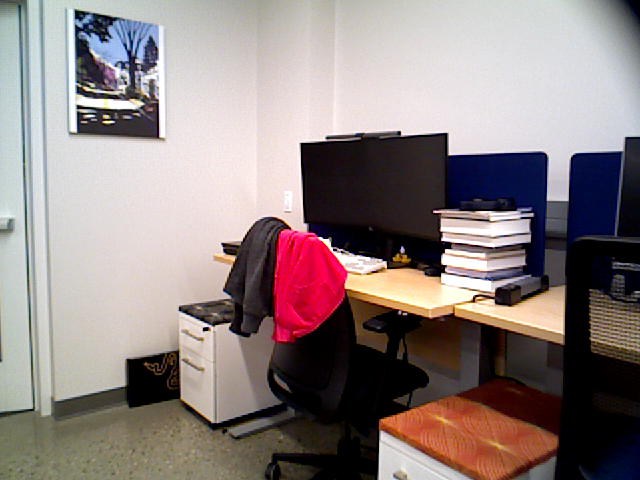painting3: (63, 5, 167, 146)
